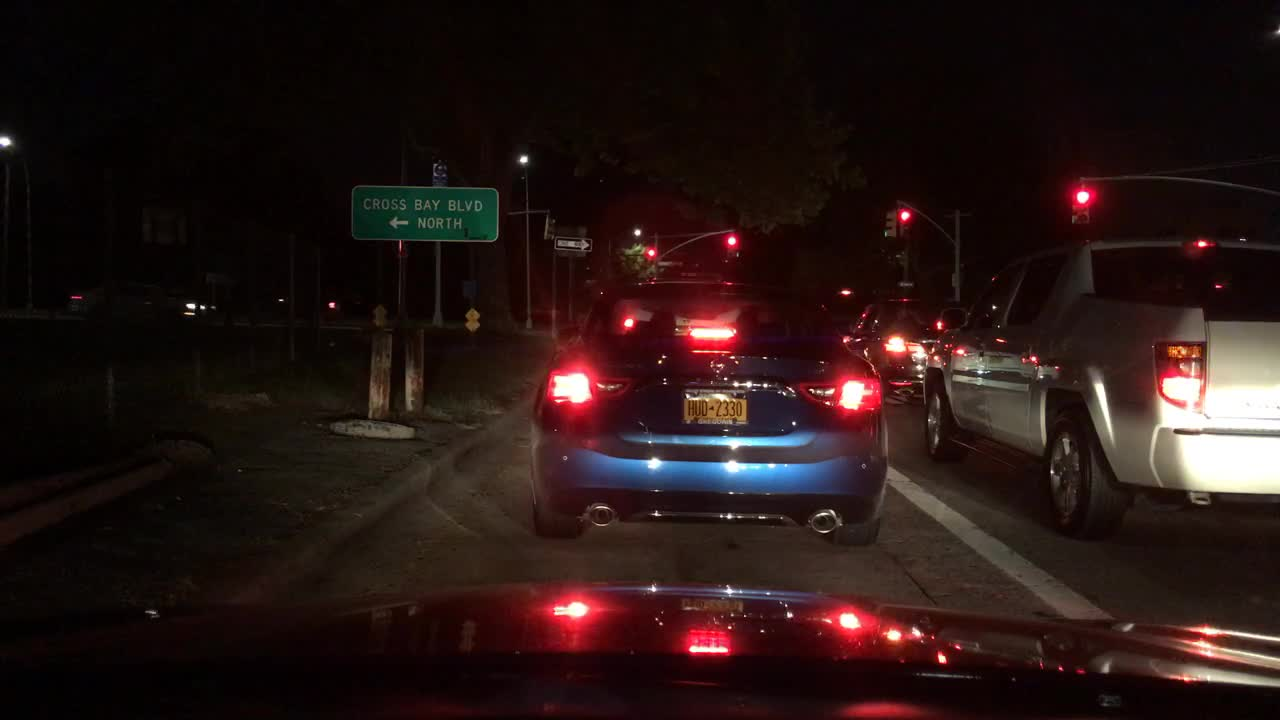car: (922, 231, 1278, 535), (527, 273, 886, 544), (847, 296, 978, 408)
traffic light: (1077, 187, 1090, 222), (897, 209, 912, 235), (884, 208, 897, 236), (727, 234, 737, 254), (1072, 192, 1077, 222), (647, 249, 655, 263)
traffic sign: (352, 184, 499, 244), (559, 226, 588, 257), (555, 238, 591, 250), (541, 213, 554, 238), (463, 278, 476, 295), (463, 306, 480, 319), (373, 316, 386, 329), (466, 321, 478, 335), (373, 305, 388, 316), (899, 280, 914, 287)
